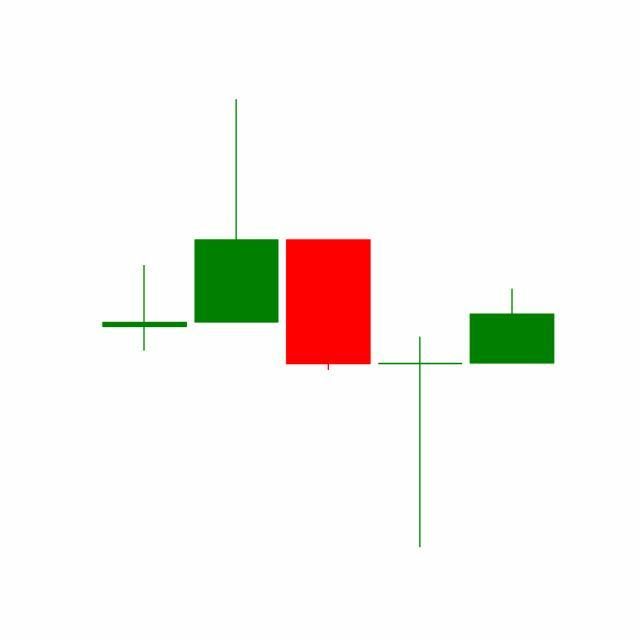Spinning Top: (374, 334, 468, 551)
